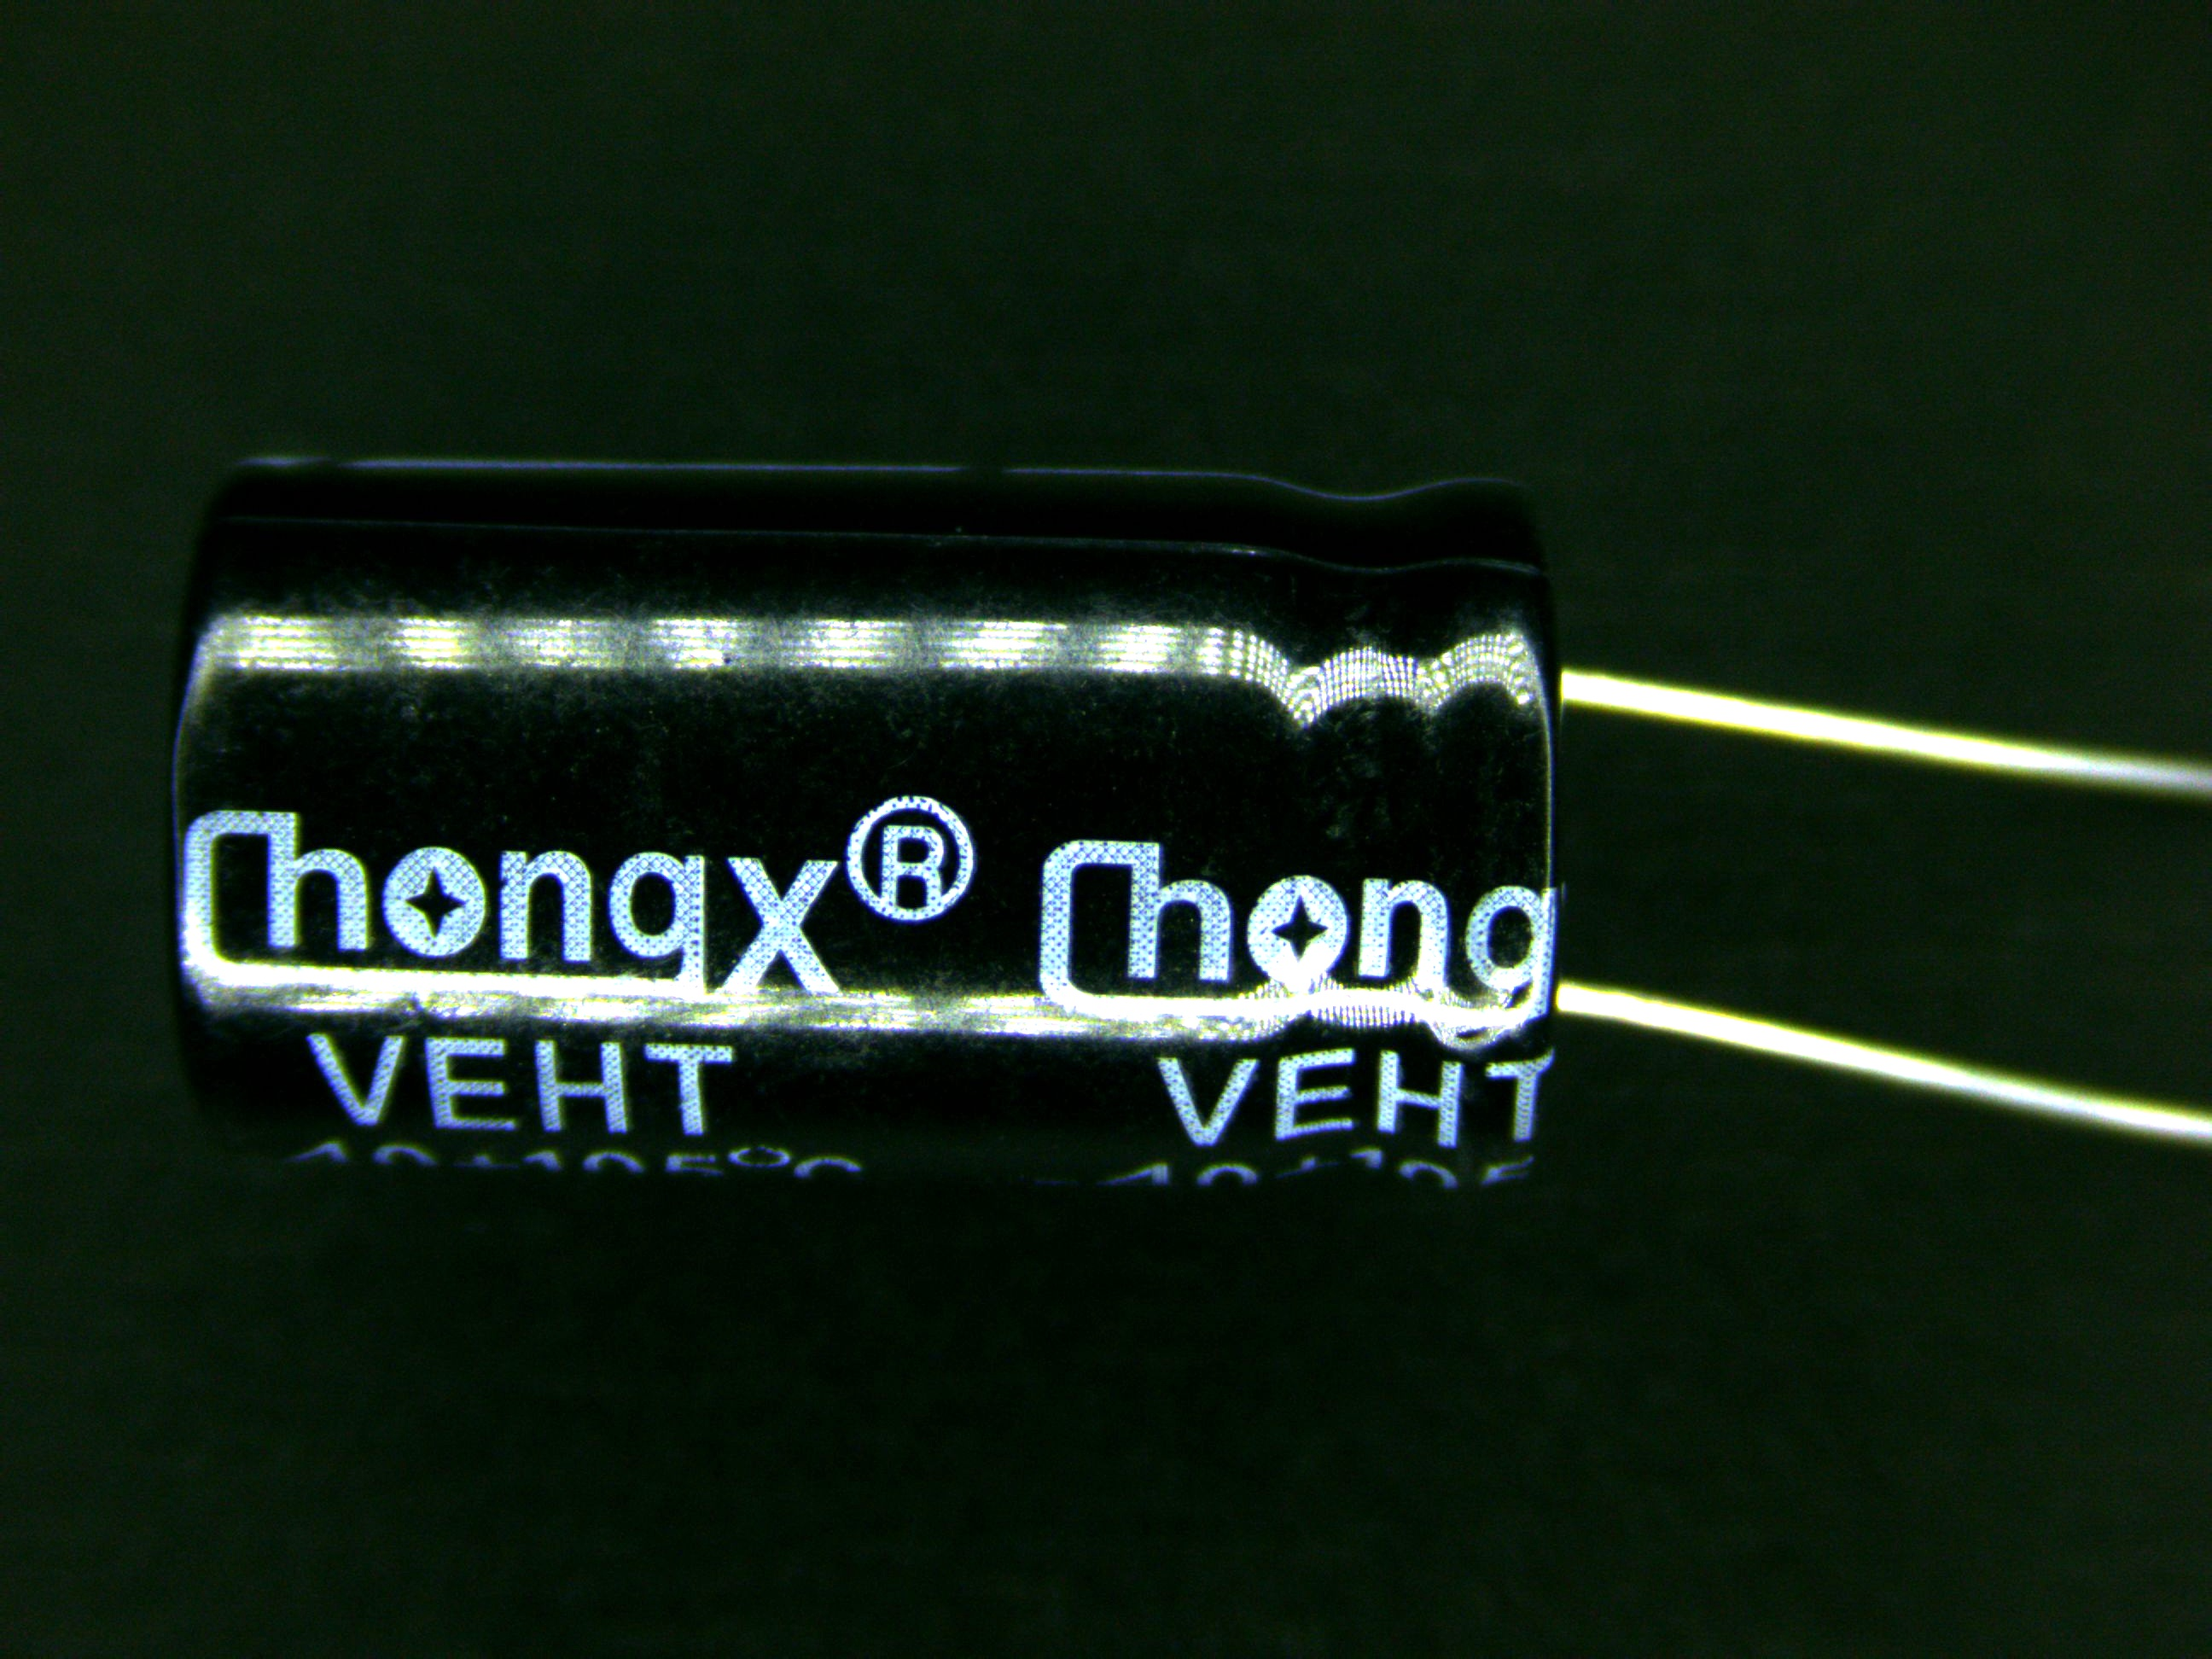c3: (158, 457, 1818, 1201)
